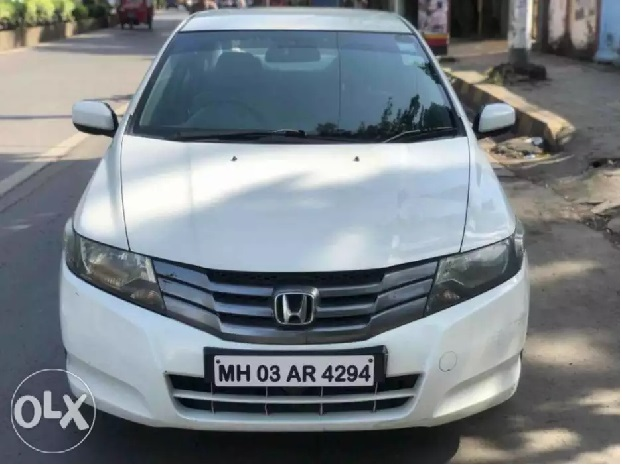licenseplate: (210, 348, 384, 396)
